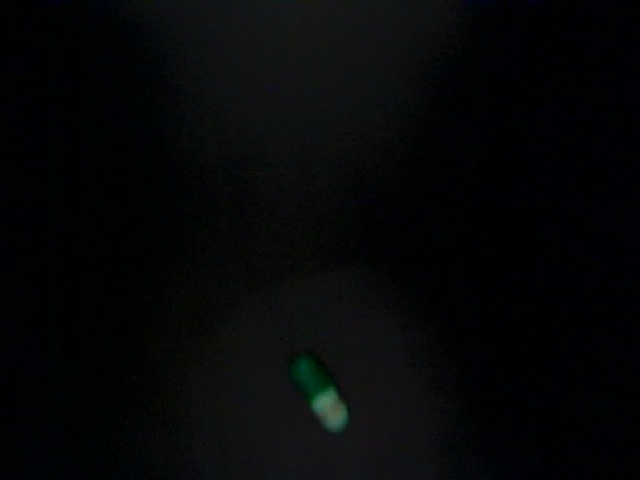YHLJ: (129, 193, 417, 290)
